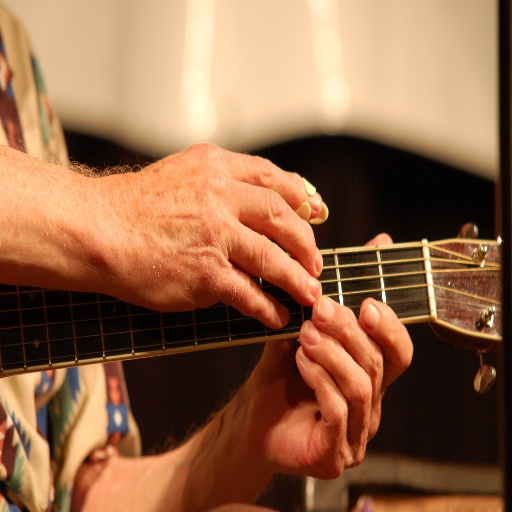hand: (20, 127, 354, 367), (243, 230, 414, 483)
